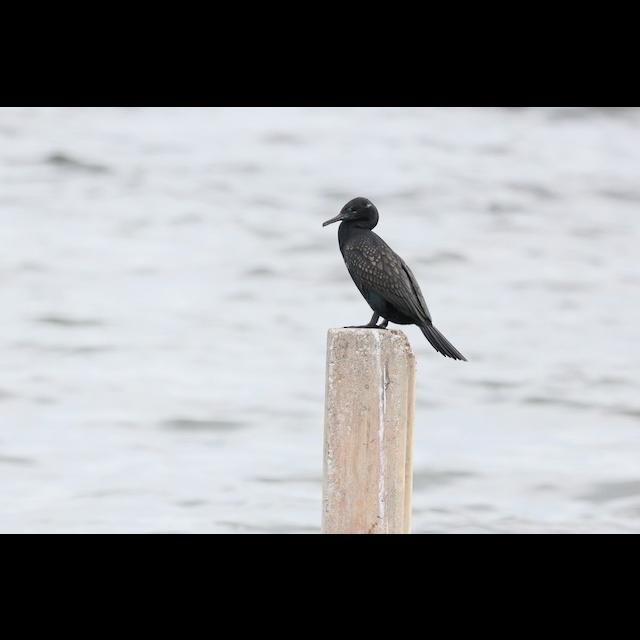cormorant: (316, 188, 478, 368)
